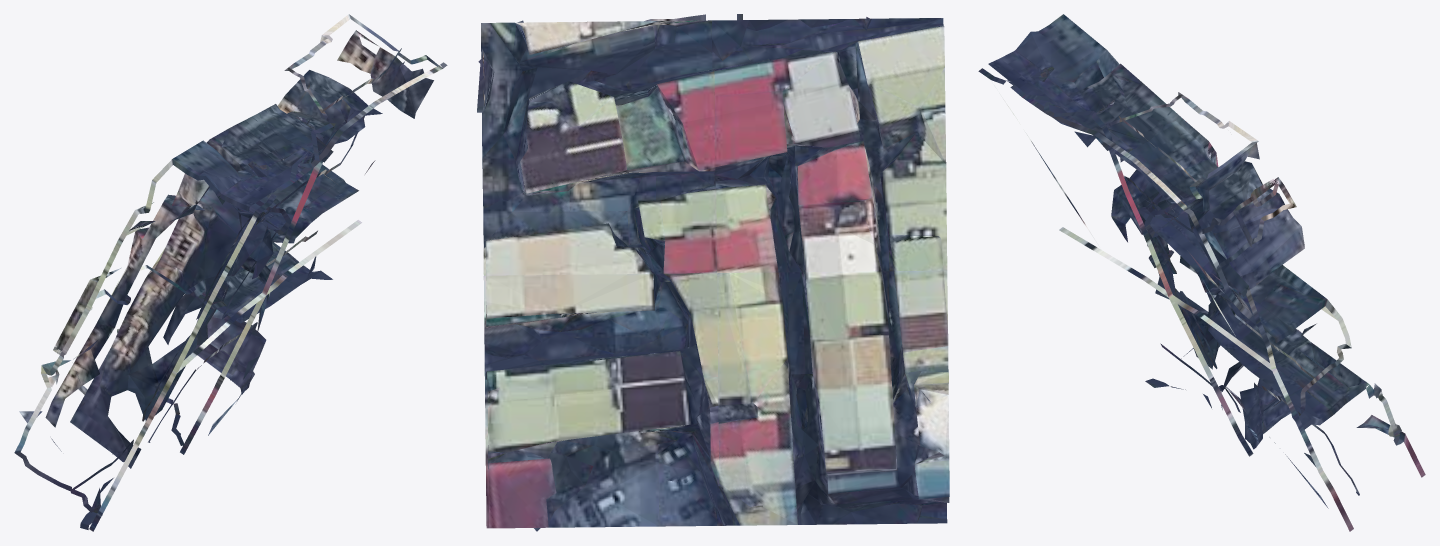
The picture shows the model from 3 angles, left to right: view 1: azimuth 30°, elevation 25°; view 2: azimuth 150°, elevation 25°; view 3: azimuth 270°, elevation 25°; orthographic projection. The views are drawn at different scales.
Size of the model in its own units: 84.4 by 76.68 by 77.53.
Materials: 1 (1 with a texture image).
